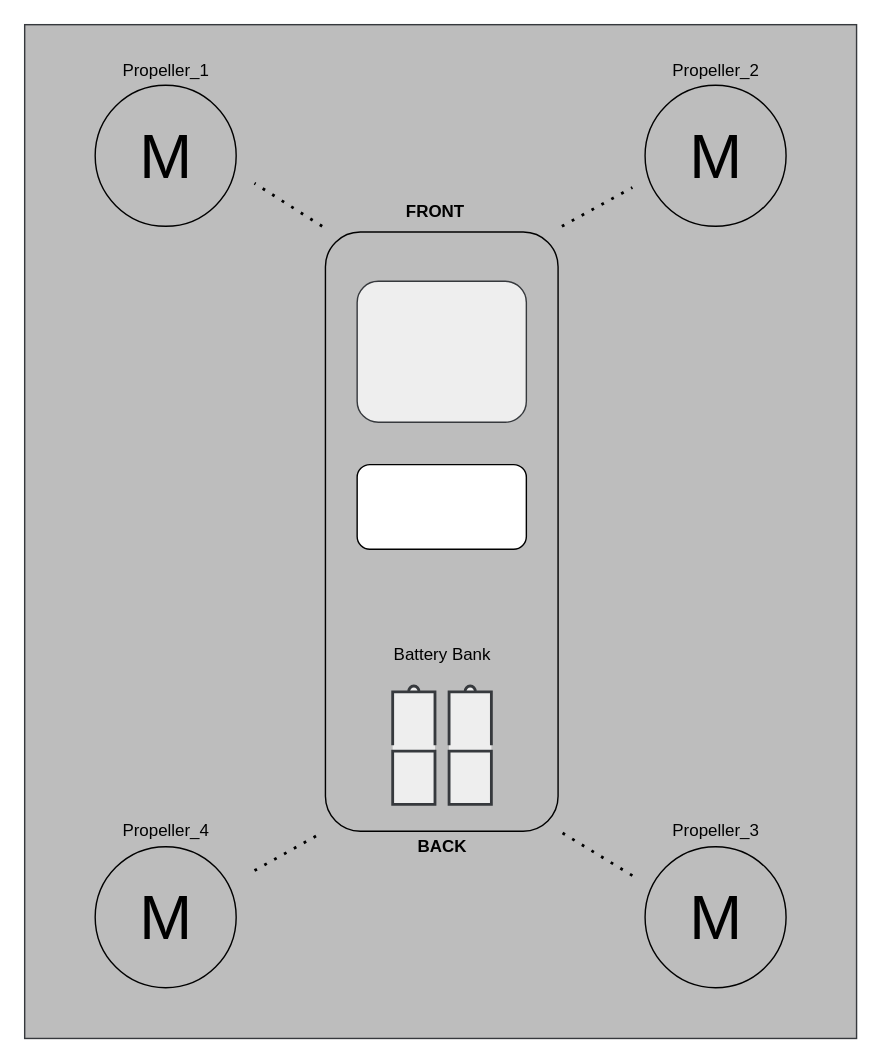
Image size: 881x1063. Some labels were removed from this diagram. The centre of each missing label's shape, as x and y in pixels:
RPI4: the point at 441,351
STM32 BlackPill: the point at 441,506
